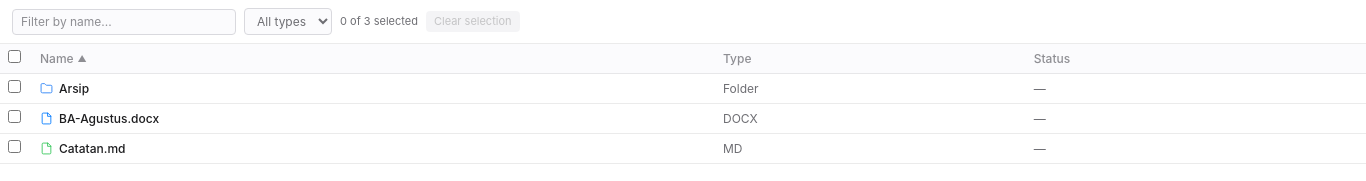
it: List filtering › filters rows by document type
This screenshot has width=1366, height=181.
Select "MD" in the dropdown named "Filter by type" at (288, 22), box [244,8,332,35]
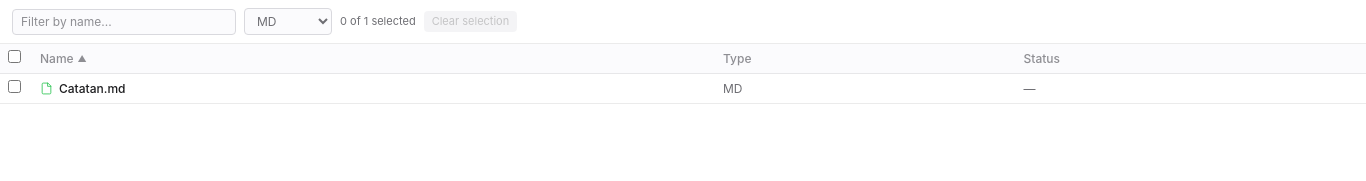
Expected: the row with test id "list-row-doc-2" is shown, [0,74,1365,104]
Result: the row with test id "list-row-doc-1" is gone
Result: the row with test id "list-row-folder-1" is gone
